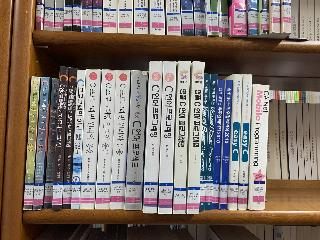book-spine: (144, 61, 164, 214), (125, 71, 147, 210), (95, 69, 116, 211), (79, 69, 100, 209), (110, 69, 130, 210), (158, 61, 176, 214), (173, 61, 191, 214), (249, 84, 269, 211), (188, 61, 204, 214), (52, 66, 68, 211), (23, 77, 40, 211), (62, 67, 77, 209), (33, 77, 49, 210), (44, 78, 59, 209), (71, 70, 85, 210), (229, 74, 243, 210), (238, 74, 252, 210), (220, 80, 233, 210), (205, 74, 217, 211), (212, 80, 224, 210), (199, 73, 210, 211)
